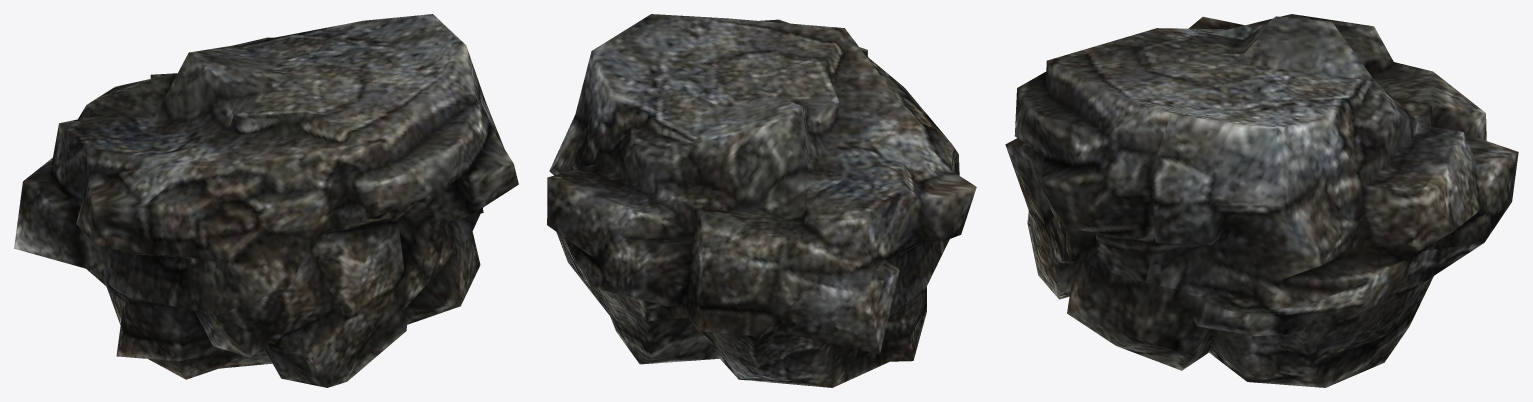
The model's file is Rock5.fbx.
3 views of the same model, side by side, from view 1: azimuth 30°, elevation 25°; view 2: azimuth 150°, elevation 25°; view 3: azimuth 270°, elevation 25° (orthographic). The views are drawn at different scales.
Parts seen in each view (by area): view 1: Rock5_330_Group10612; view 2: Rock5_330_Group10612; view 3: Rock5_330_Group10612.
Boxes of the visible parts, left/top/right/bottom form: Rock5_330_Group10612: left=14, top=14, right=518, bottom=387; Rock5_330_Group10612: left=547, top=14, right=976, bottom=387; Rock5_330_Group10612: left=1005, top=14, right=1518, bottom=387.
Size of the model in its own units: 3.17 by 2.14 by 3.29.
